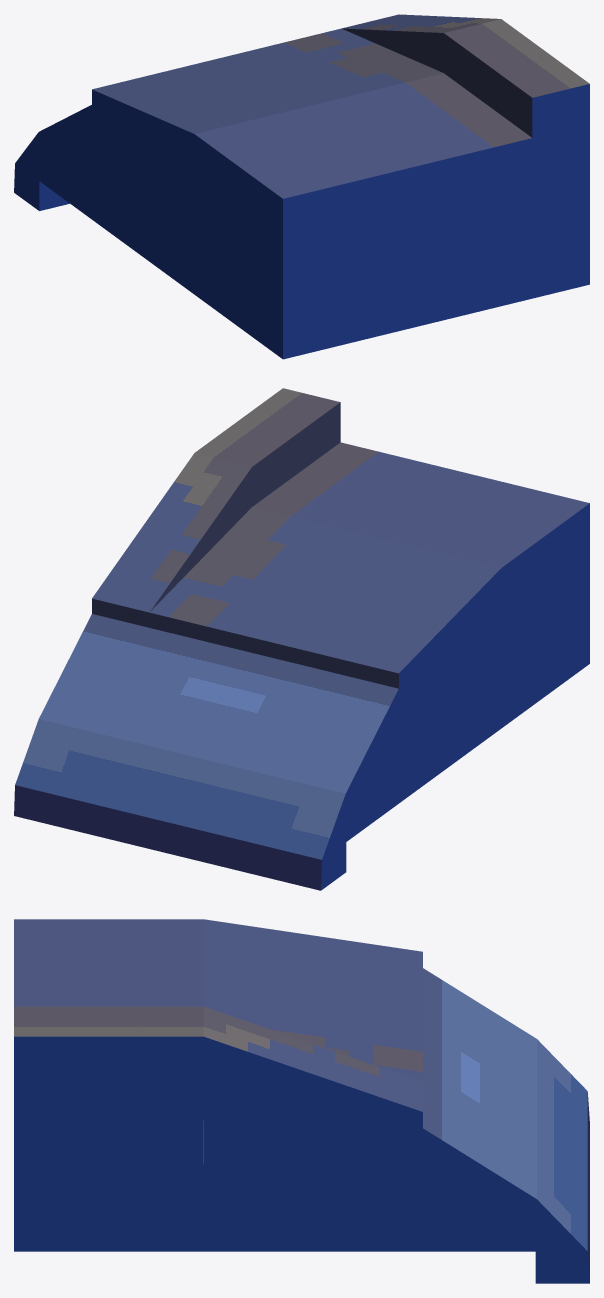
Rendered from df21_dynamic_transition_carport_lh.obj.
3 views of the same model, one above another, from view 1: azimuth 30°, elevation 25°; view 2: azimuth 150°, elevation 25°; view 3: azimuth 270°, elevation 25° (orthographic). The views are drawn at different scales.
Visible parts, largest first — view 1: cuboid_selection_selection_selection_selection_selection; view 2: cuboid_selection_selection_selection_selection_selection; view 3: cuboid_selection_selection_selection_selection_selection.
Boxes of the visible parts, <box> form: cuboid_selection_selection_selection_selection_selection: <box>14,14,589,359</box>; cuboid_selection_selection_selection_selection_selection: <box>14,388,589,890</box>; cuboid_selection_selection_selection_selection_selection: <box>14,919,589,1283</box>.
Size of the model in its own units: 1 by 0.7188 by 1.52.
